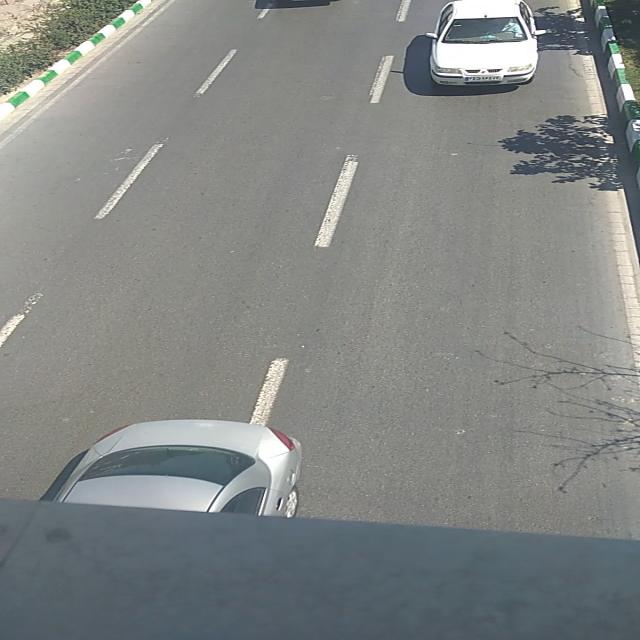car: (50, 420, 308, 516), (424, 1, 546, 84)
